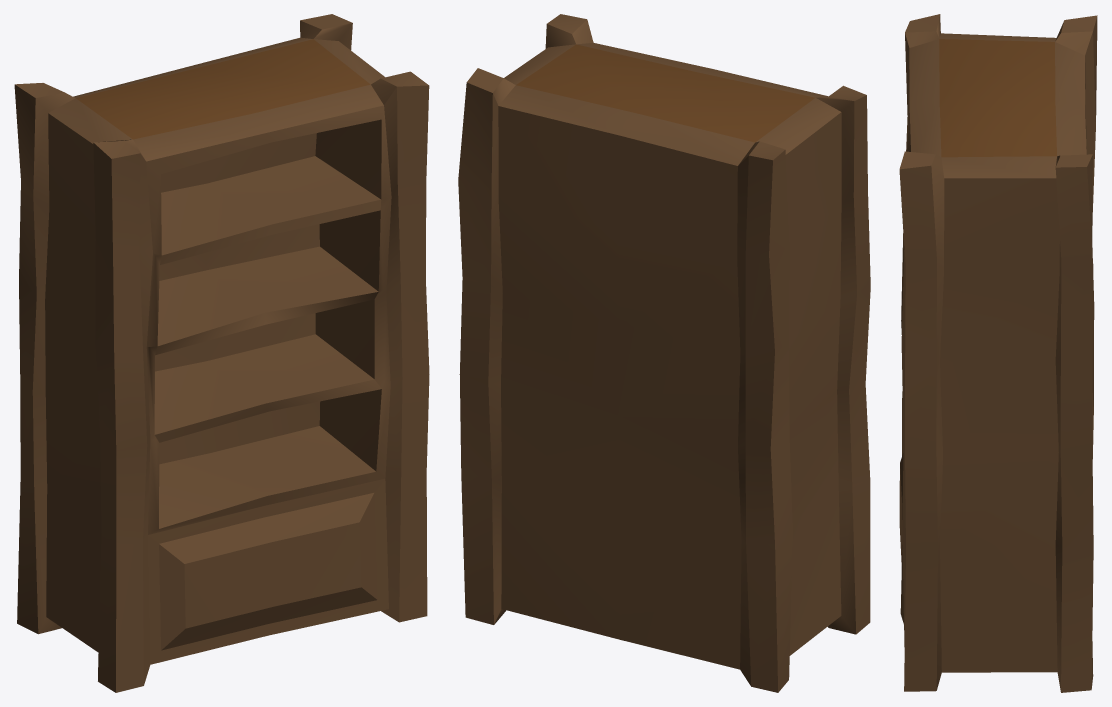
The model's file is RG-Dungeon_Cupboard.fbx.
The picture shows the model from 3 angles, left to right: view 1: azimuth 30°, elevation 25°; view 2: azimuth 150°, elevation 25°; view 3: azimuth 270°, elevation 25°; orthographic projection.
Parts seen in each view (by area): view 1: RG-Dungeon_Cupboard; view 2: RG-Dungeon_Cupboard; view 3: RG-Dungeon_Cupboard.
Part boxes in pixels (left/top/right/bottom): RG-Dungeon_Cupboard: left=14, top=14, right=429, bottom=692; RG-Dungeon_Cupboard: left=458, top=14, right=870, bottom=692; RG-Dungeon_Cupboard: left=899, top=14, right=1097, bottom=692.
Bounding box in the file's own units: 8.22 × 13.21 × 4.5.
